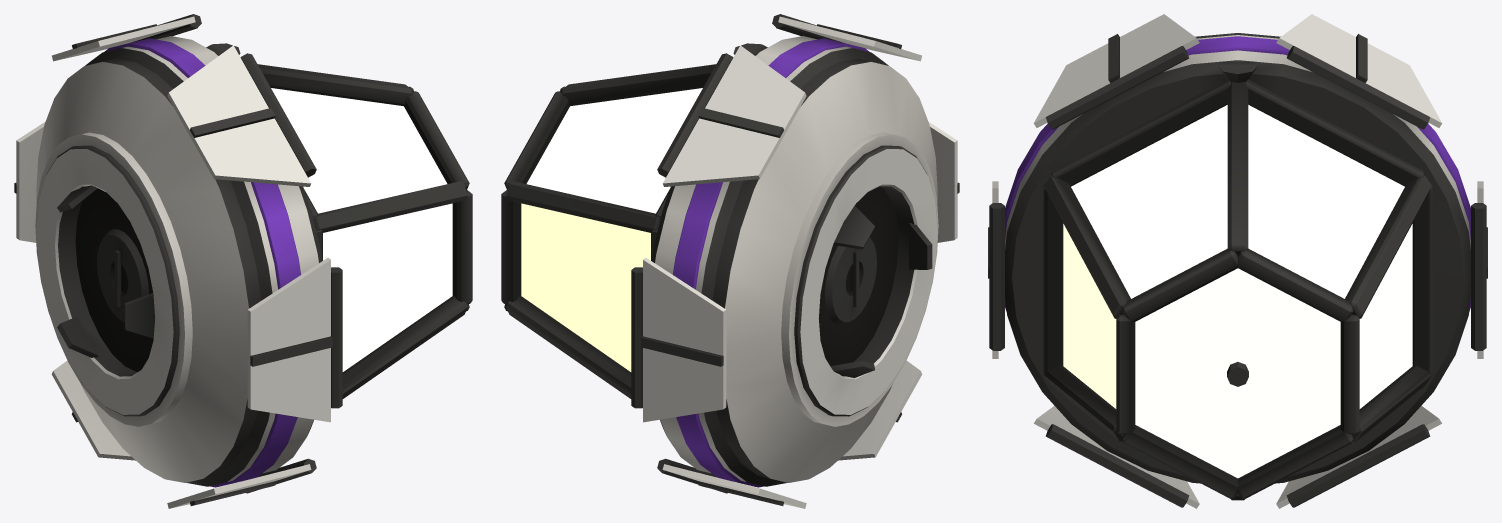
The model's file is cupola.glb.
3 renders of one model, left to right at view 1: azimuth 30°, elevation 25°; view 2: azimuth 150°, elevation 25°; view 3: azimuth 270°, elevation 25°, orthographic. The views are drawn at different scales.
Parts seen in each view (by area): view 1: body, glow; view 2: body, glow; view 3: body, glow.
Part boxes in pixels (x1=…): body: x1=14, y1=14, x2=472, y2=508; glow: x1=271, y1=88, x2=452, y2=371; body: x1=501, y1=14, x2=959, y2=508; glow: x1=521, y1=88, x2=702, y2=371; body: x1=988, y1=14, x2=1487, y2=508; glow: x1=1063, y1=105, x2=1412, y2=478.
Bounding box in the file's own units: 2.57 × 3.31 × 3.18.
